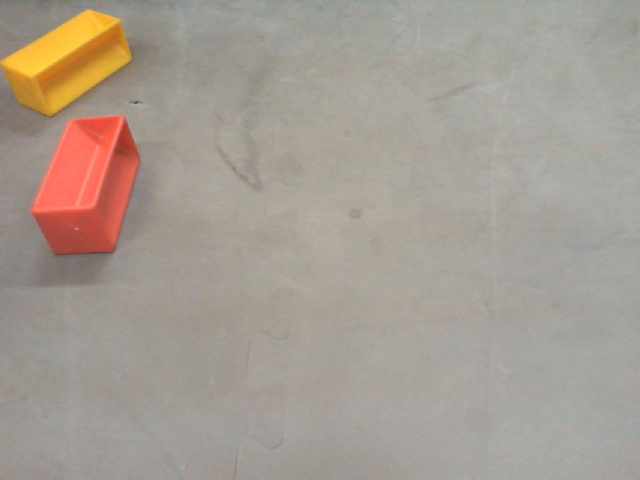RedSample: (29, 114, 139, 256)
YellowSample: (1, 7, 134, 118)
